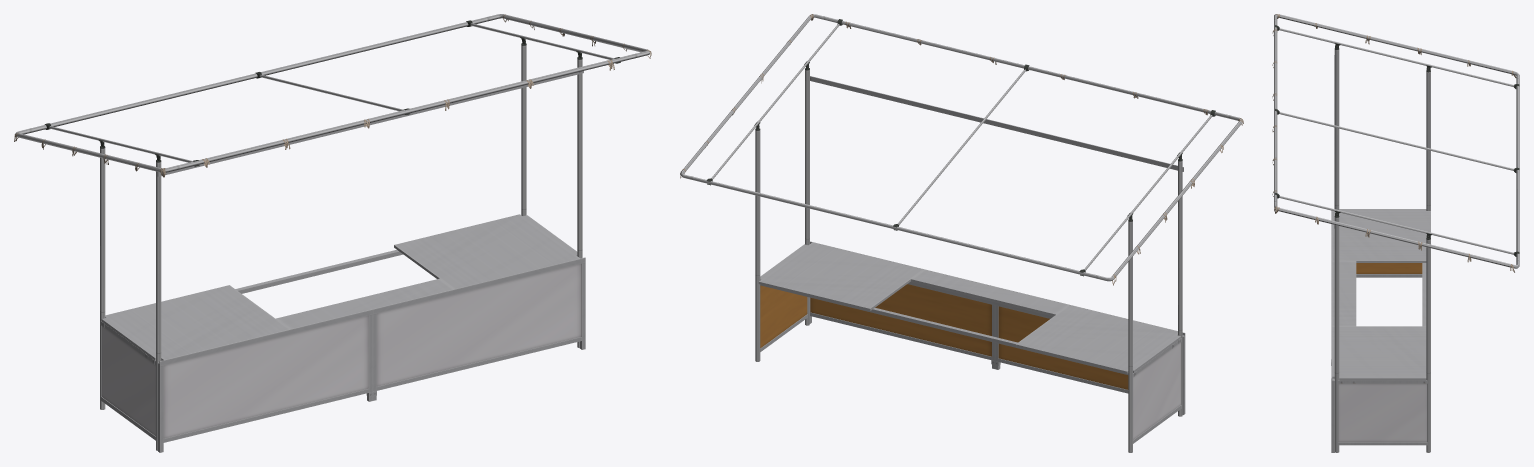
Rendered from jsf_4P_s04_c04_t02.fbx.
3 views of the same model, side by side, from view 1: azimuth 30°, elevation 25°; view 2: azimuth 150°, elevation 25°; view 3: azimuth 270°, elevation 25° (orthographic). The views are drawn at different scales.
Parts seen in each view (by area): view 1: Base_s04_c04, Table_4P_s04_t02, Pillar4_s04, Rope_4P_s04; view 2: Base_s04_c04, Table_4P_s04_t02, Pillar4_s04; view 3: Table_4P_s04_t02, Pillar4_s04, Base_s04_c04, Rope_4P_s04.
Part boxes in pixels (x1,y1,x2,y2): Base_s04_c04: (100,257,585,452); Table_4P_s04_t02: (101,214,579,364); Pillar4_s04: (14,14,649,450); Rope_4P_s04: (14,14,651,177); Base_s04_c04: (760,241,1185,443); Table_4P_s04_t02: (758,242,1181,376); Pillar4_s04: (680,14,1242,452); Table_4P_s04_t02: (1332,209,1430,383); Pillar4_s04: (1274,14,1519,452); Base_s04_c04: (1331,210,1427,452); Rope_4P_s04: (1272,14,1516,272).
Size of the model in its own units: 395 by 243 by 211.
